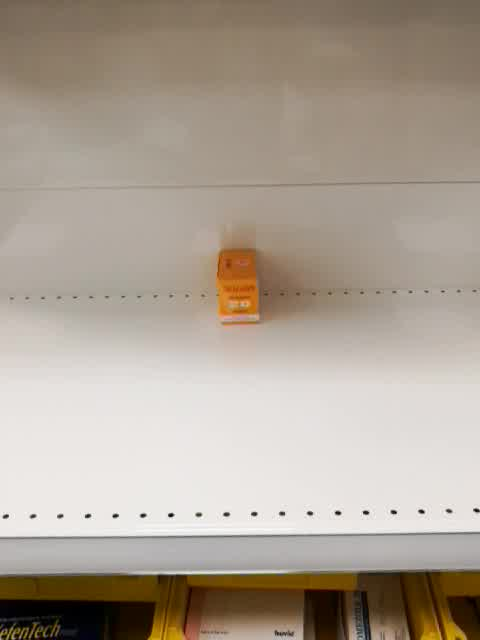jasminetea: (216, 247, 261, 325)
